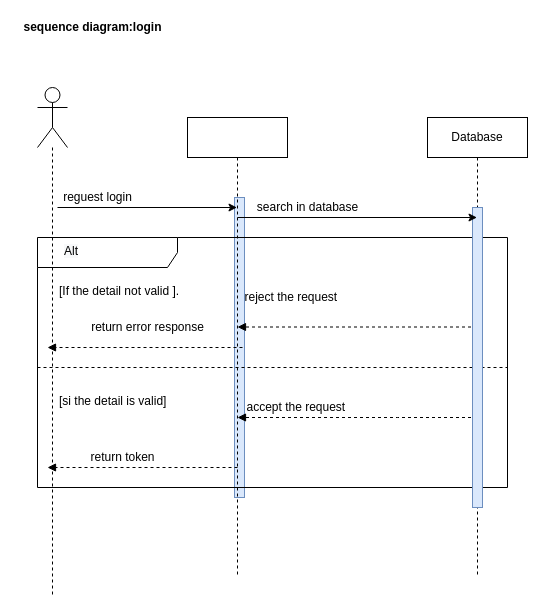
Some shapes in this 545 by 616 pixel diagram are drawn without their labels. The box of each missing label's shape, as (x1, y1, x2, y2) in pixels:
System: (186, 116, 288, 578)
User: (36, 86, 68, 148)
